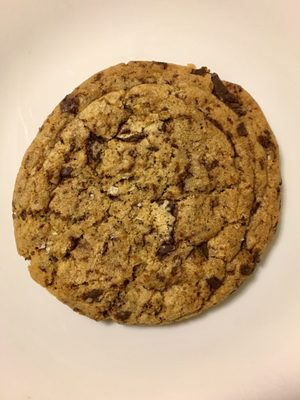sushi: (10, 61, 283, 326)
